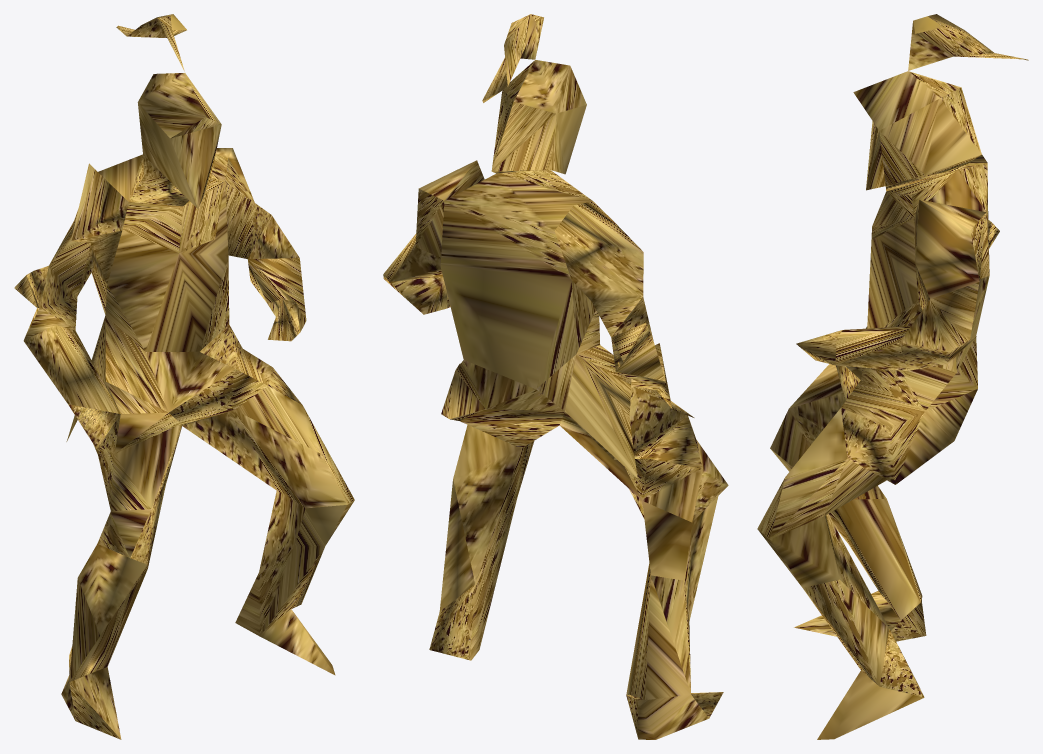
File: ae_knight_rider_royal_lod1.glb
The picture shows the model from 3 angles, left to right: view 1: azimuth 30°, elevation 25°; view 2: azimuth 150°, elevation 25°; view 3: azimuth 270°, elevation 25°; orthographic projection. The views are drawn at different scales.
Parts seen in each view (by area): view 1: output_unwrapped; view 2: output_unwrapped; view 3: output_unwrapped.
Boxes of the visible parts, box(x1,y1,x2,y2) form: output_unwrapped: box(14, 14, 354, 739); output_unwrapped: box(383, 14, 728, 739); output_unwrapped: box(757, 14, 1028, 739).
Size of the model in its own units: 0.7999 by 1.9 by 0.6969.
1 material, 1 textured.
